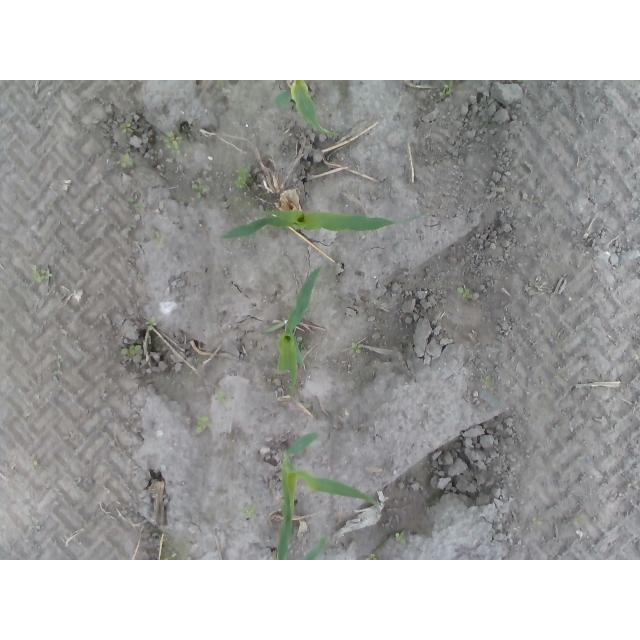Maize: (276, 430, 381, 560), (264, 263, 321, 386), (223, 207, 424, 241), (270, 80, 342, 137)
Weeds: (236, 159, 257, 189), (163, 130, 185, 150), (32, 265, 54, 284), (120, 342, 142, 357), (191, 179, 209, 197), (195, 415, 210, 434), (394, 530, 411, 546), (243, 505, 260, 520), (439, 80, 453, 97), (120, 152, 134, 169), (50, 352, 63, 368), (457, 286, 472, 298), (32, 454, 41, 470), (122, 122, 134, 134), (128, 197, 140, 208), (351, 343, 362, 354), (214, 393, 227, 402), (366, 552, 380, 560), (146, 317, 158, 326), (163, 553, 177, 560), (482, 376, 492, 385)
